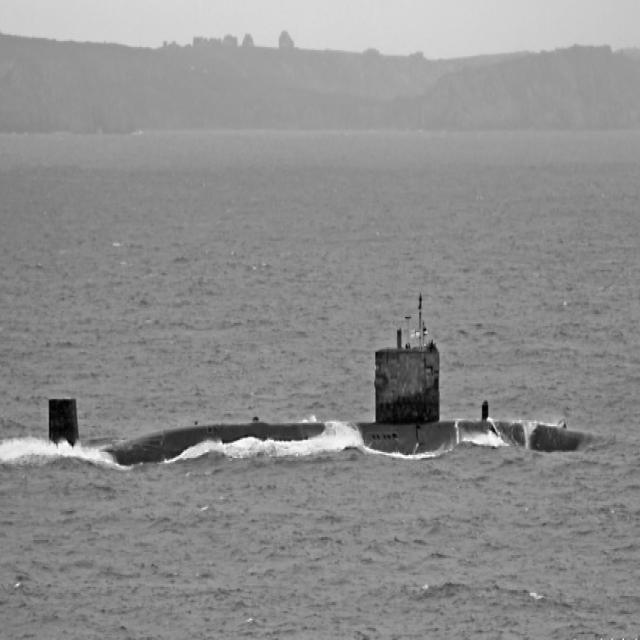submarine: (37, 339, 605, 456)
